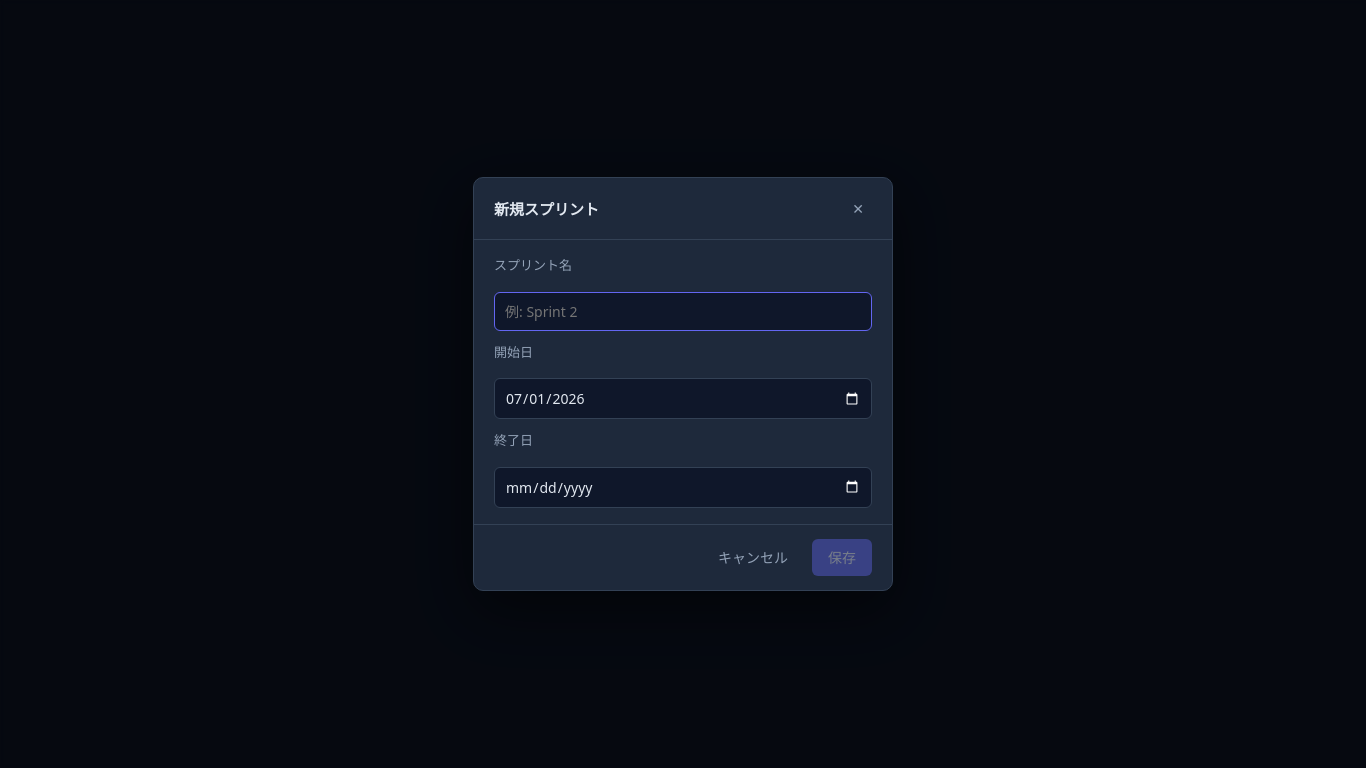
Test case: SprintModal (R-011) › 名前と妥当な日付を入れると保存可能になる (S-011-02)
Type "Sprint 2" into the field with placeholder "例: Sprint 2" at (683, 311), box x1=494 y1=292 x2=872 y2=331
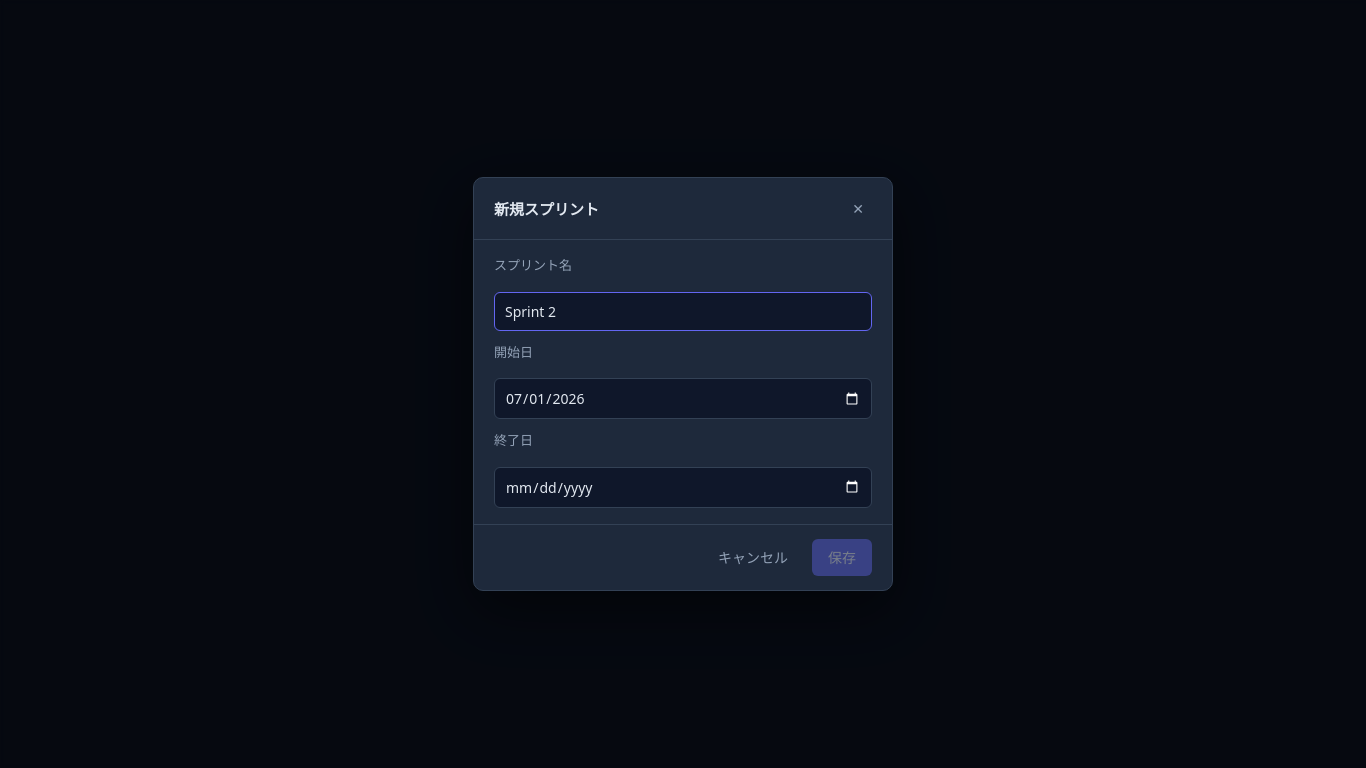
Type "2026-06-01" into the 1st date field at (683, 399), box x1=494 y1=378 x2=872 y2=419
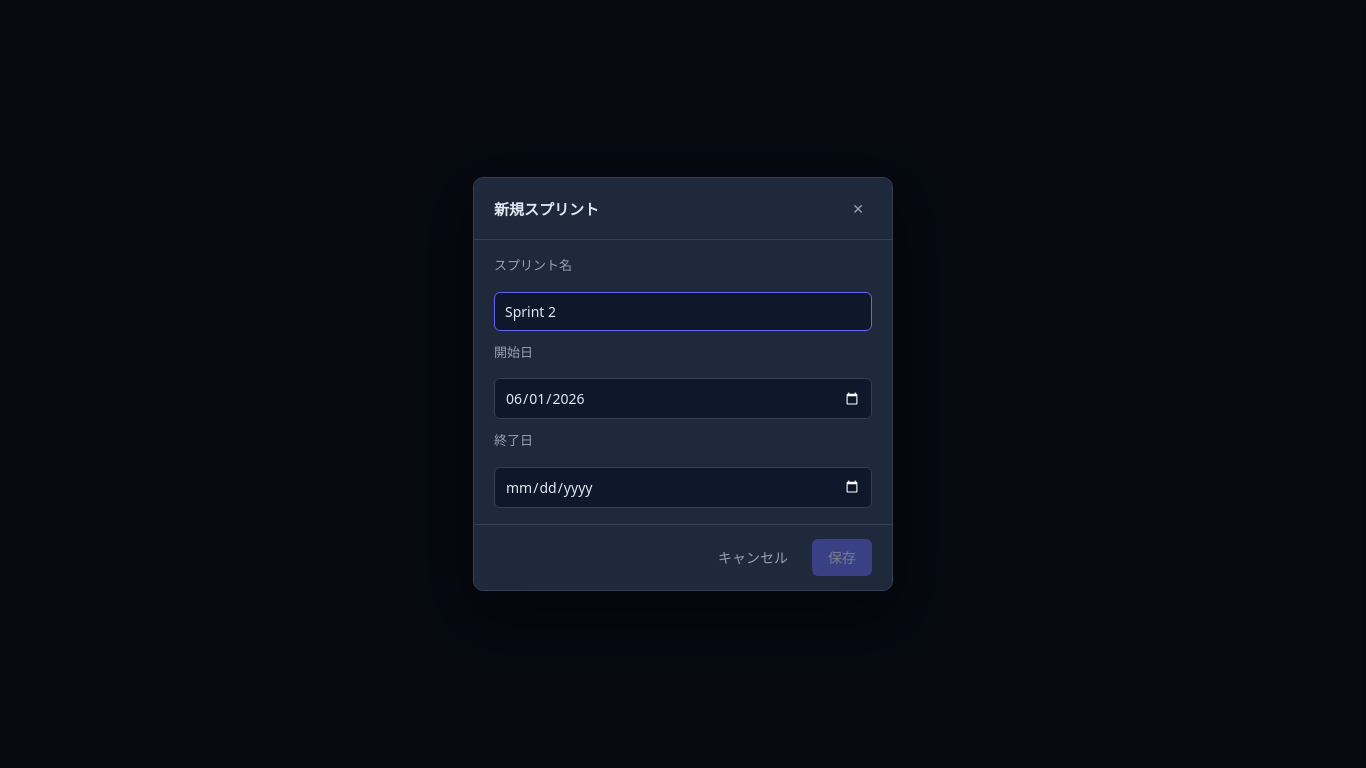
Type "2026-06-14" into the 2nd date field at (683, 487), box x1=494 y1=467 x2=872 y2=508
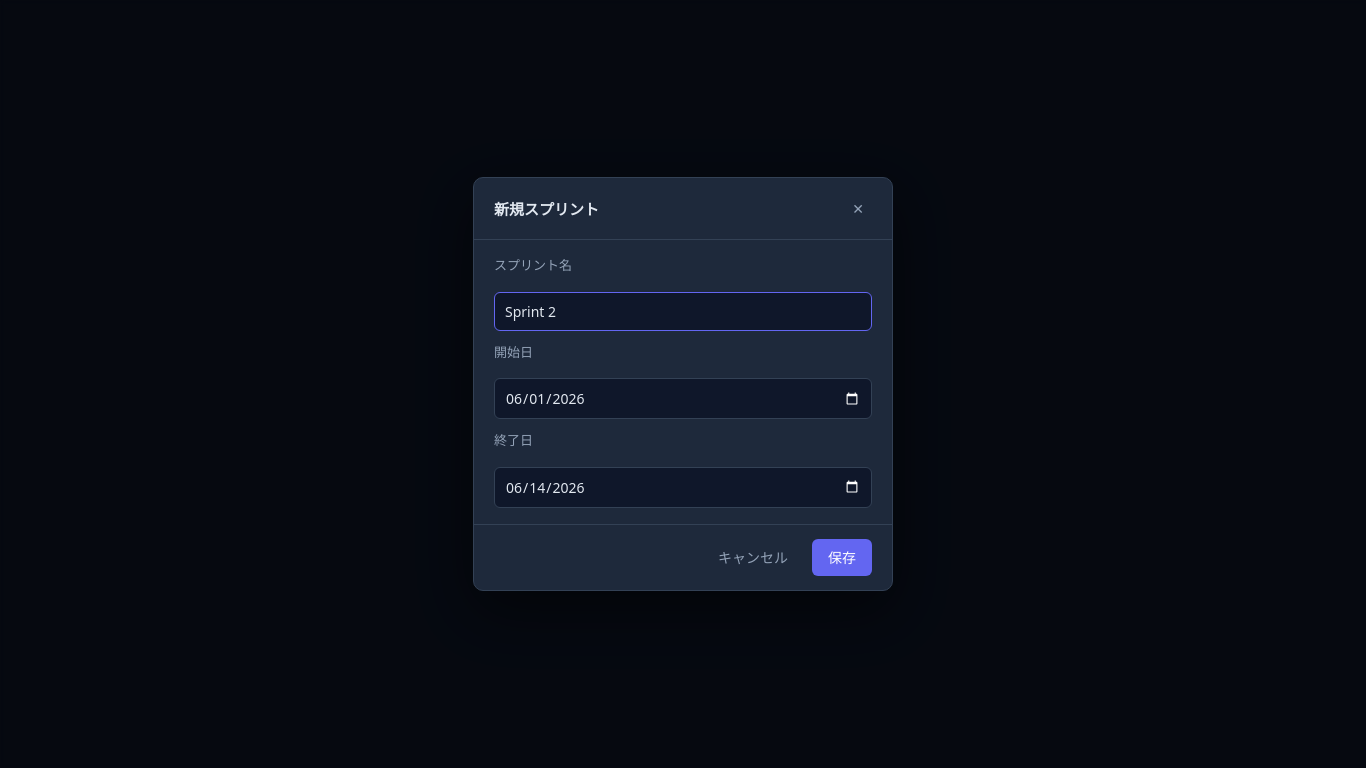
Result: the button "保存" is enabled at x1=812 y1=539 x2=872 y2=576
